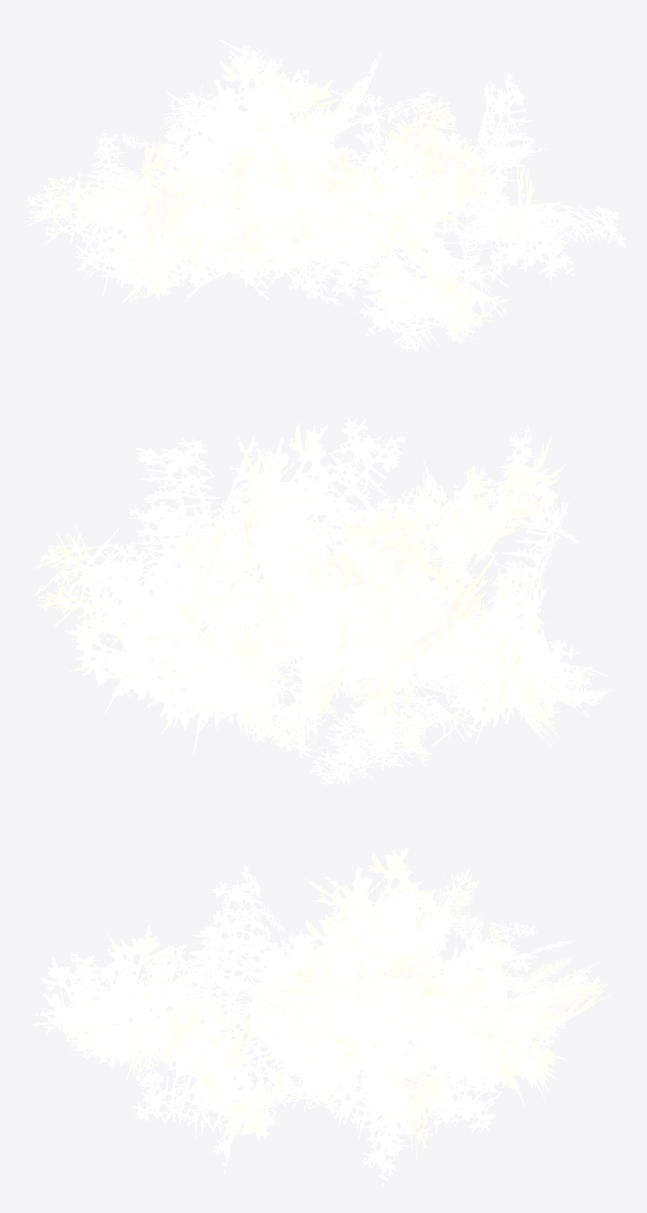
3 views of the same model, one above another, from view 1: azimuth 30°, elevation 25°; view 2: azimuth 150°, elevation 25°; view 3: azimuth 270°, elevation 25° (orthographic). The views are drawn at different scales.
Visible parts, largest first — view 1: SM_Gorse_04_LOD0; view 2: SM_Gorse_04_LOD0; view 3: SM_Gorse_04_LOD0.
Part boxes in pixels (x1,y1,x2,y2): SM_Gorse_04_LOD0: [24, 39, 626, 355]; SM_Gorse_04_LOD0: [31, 416, 617, 785]; SM_Gorse_04_LOD0: [28, 846, 616, 1186].
Size of the model in its own units: 2.37 by 0.9911 by 2.62.
Materials: 1 (1 with a texture image).
